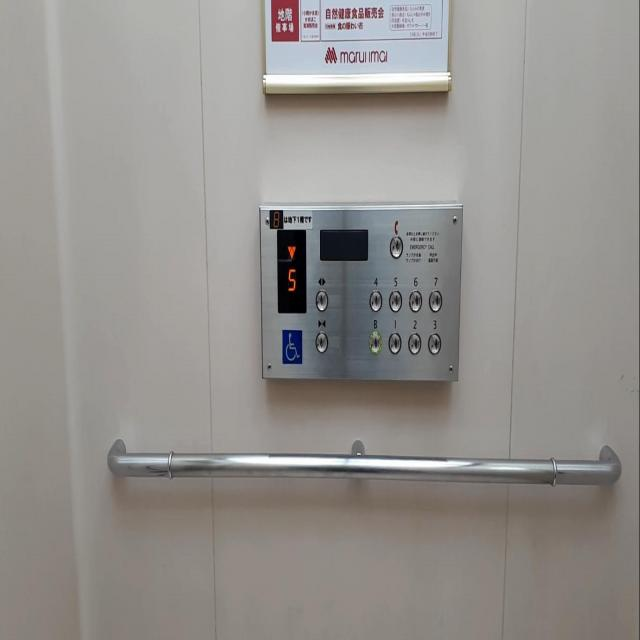CH: (282, 328, 302, 364)
led: (276, 225, 307, 315), (318, 225, 369, 263)
unknown: (428, 289, 443, 312), (408, 288, 422, 312), (388, 235, 403, 257), (389, 288, 402, 312), (368, 331, 382, 353), (369, 288, 382, 311), (315, 330, 328, 352), (388, 331, 401, 353), (315, 289, 327, 312), (428, 333, 441, 354), (408, 332, 420, 353)
